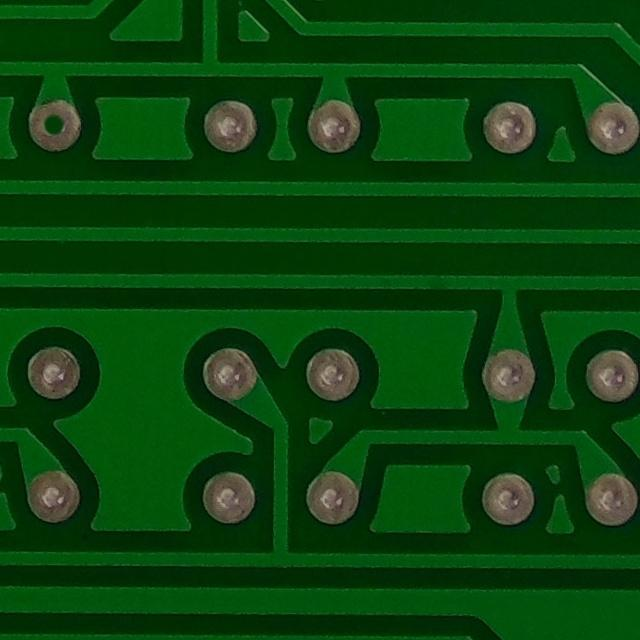missing_hole: (24, 90, 87, 162)
